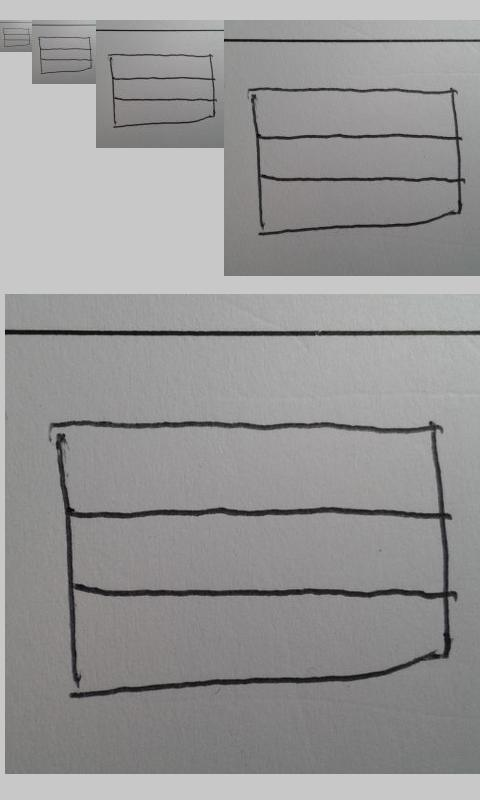list_view: (51, 414, 455, 702), (248, 84, 465, 240), (108, 51, 217, 130), (38, 36, 93, 75), (2, 27, 31, 48)
